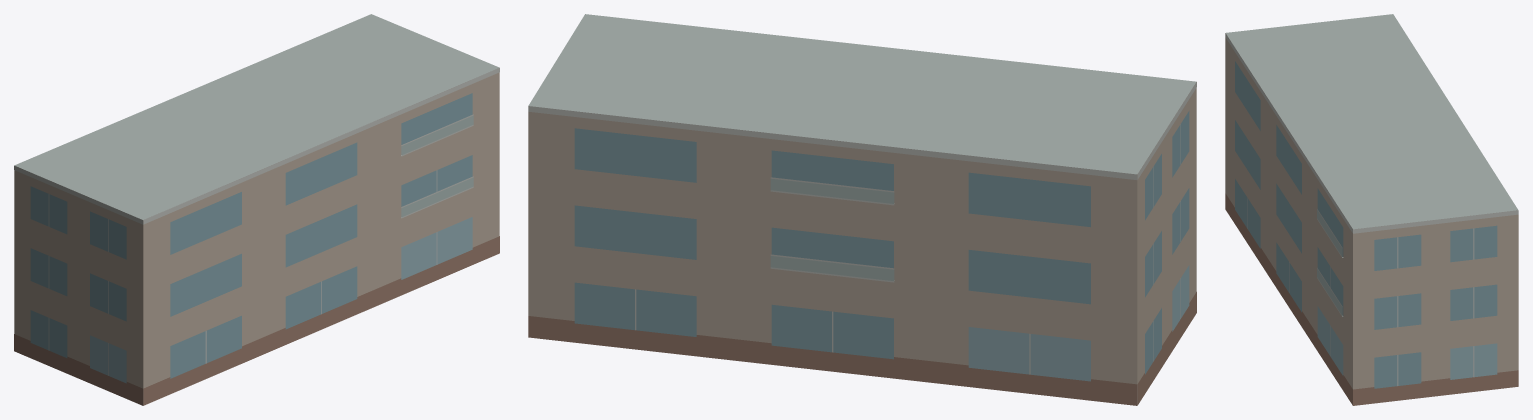
The model's file is survey-upis-32711246.glb.
3 views of the same model, side by side, from view 1: azimuth 30°, elevation 25°; view 2: azimuth 150°, elevation 25°; view 3: azimuth 270°, elevation 25° (orthographic). The views are drawn at different scales.
Visible parts, largest first — view 1: survey-upis-32711246.tmp; view 2: survey-upis-32711246.tmp; view 3: survey-upis-32711246.tmp.
Boxes of the visible parts, x1,y1,x2,y2 form: survey-upis-32711246.tmp: [14, 14, 499, 405]; survey-upis-32711246.tmp: [528, 14, 1196, 405]; survey-upis-32711246.tmp: [1225, 14, 1518, 405].
Size of the model in its own units: 25.65 by 9.8 by 14.75.
